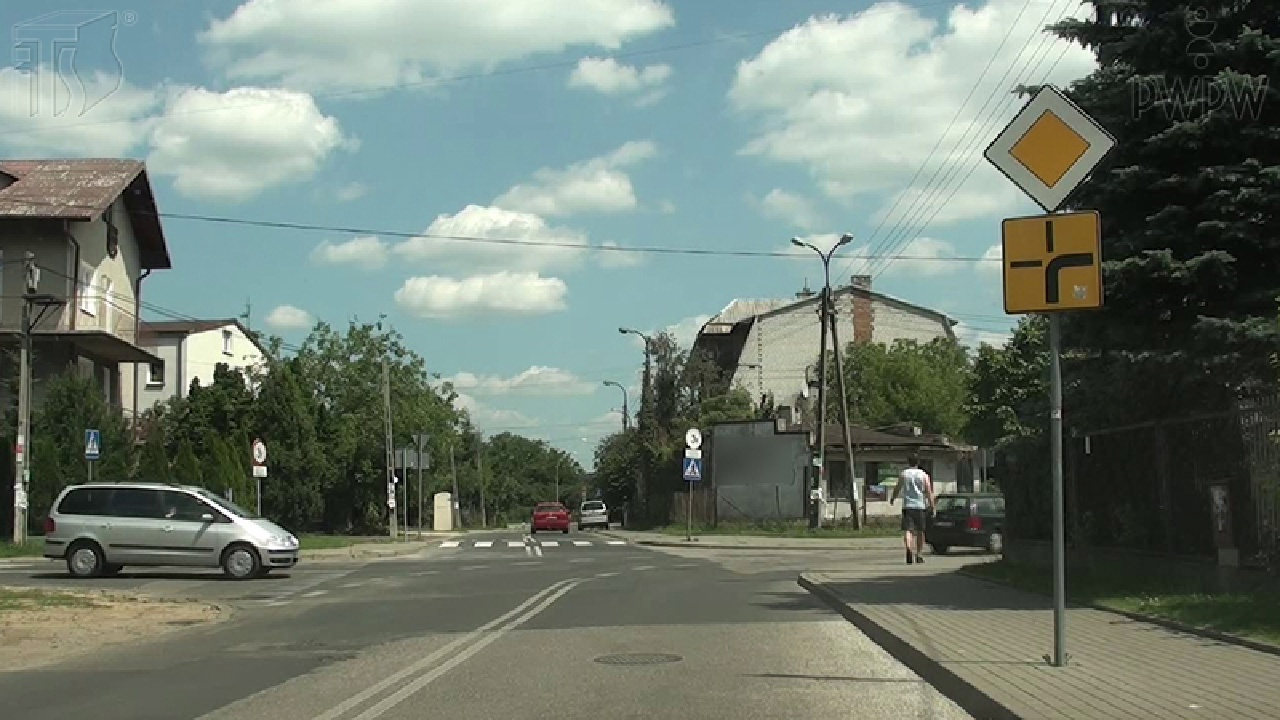D1: (981, 83, 1118, 211)
